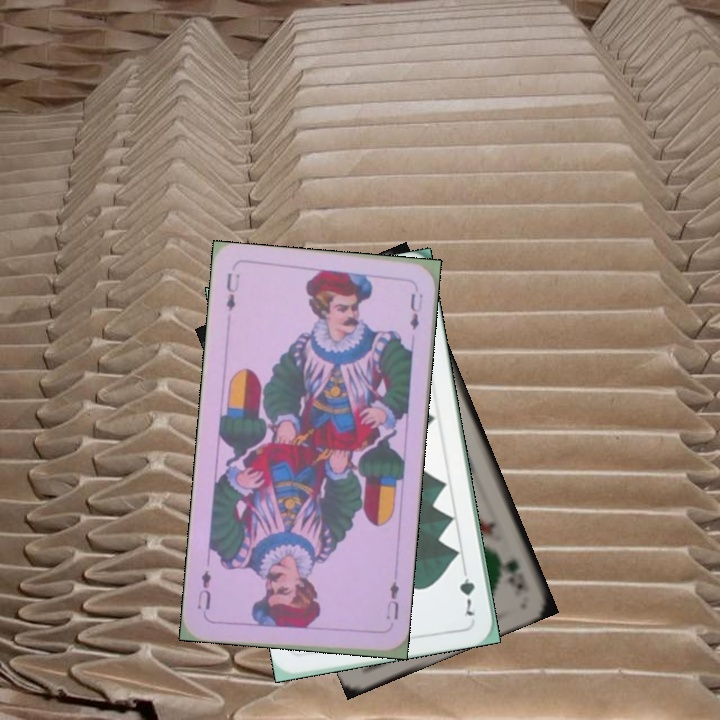EU: (382, 577, 402, 631), (222, 269, 243, 314)
G7: (455, 562, 478, 619)
GK: (501, 554, 527, 593)
